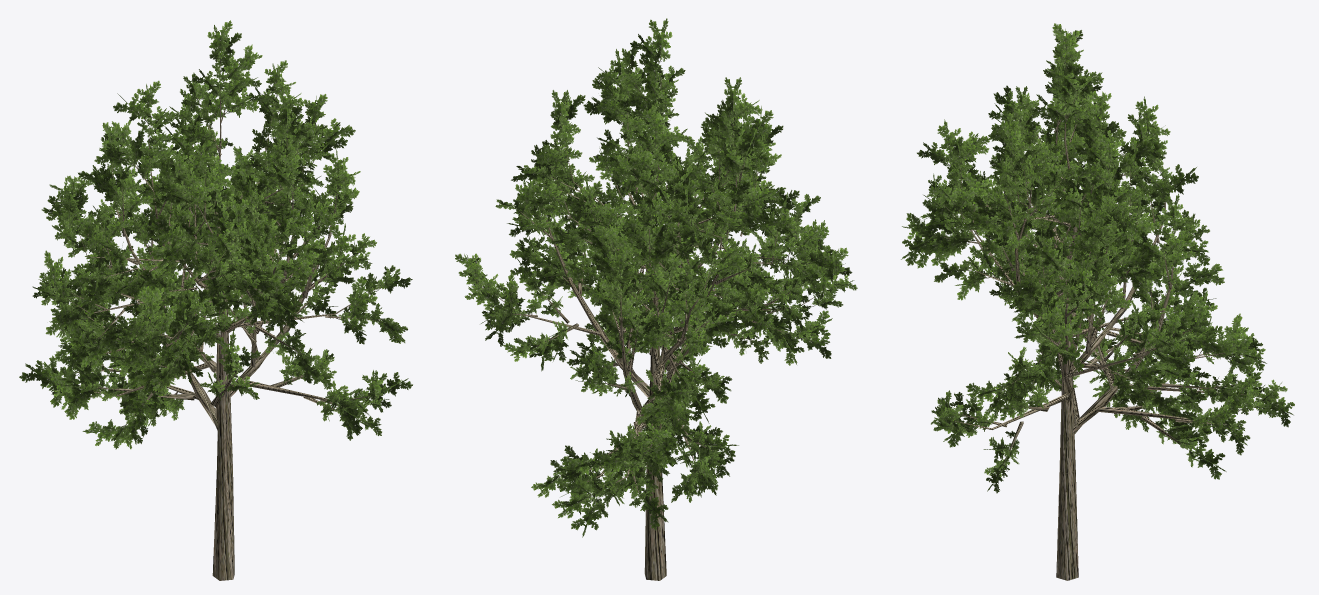
Rendered from tree_LOD1.glb.
3 views of the same model, side by side, from view 1: azimuth 30°, elevation 25°; view 2: azimuth 150°, elevation 25°; view 3: azimuth 270°, elevation 25° (orthographic).
Visible parts, largest first — view 1: Leaves_LOD1, Branches_LOD1; view 2: Leaves_LOD1, Branches_LOD1; view 3: Leaves_LOD1, Branches_LOD1.
Boxes of the visible parts, x1,y1,x2,y2 form: Leaves_LOD1: (19,20,412,449); Branches_LOD1: (60,63,380,580); Leaves_LOD1: (455,18,857,537); Branches_LOD1: (483,68,827,580); Leaves_LOD1: (901,23,1294,493); Branches_LOD1: (934,67,1259,580).
Bounding box in the file's own units: 50.45 × 72.74 × 49.63.
2 materials, 2 textured.
